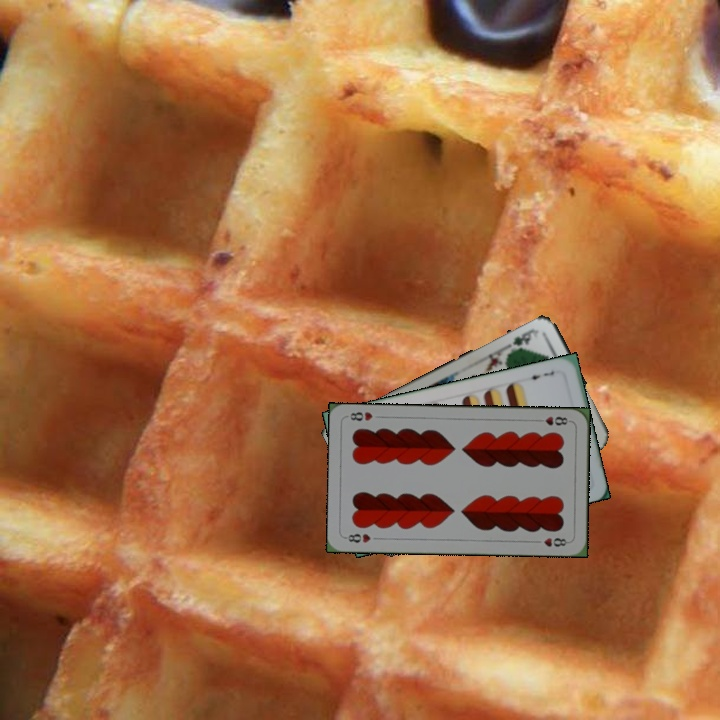E7: (523, 367, 557, 382)
GK: (507, 325, 541, 354)
H8: (532, 413, 573, 428), (342, 529, 373, 545)
